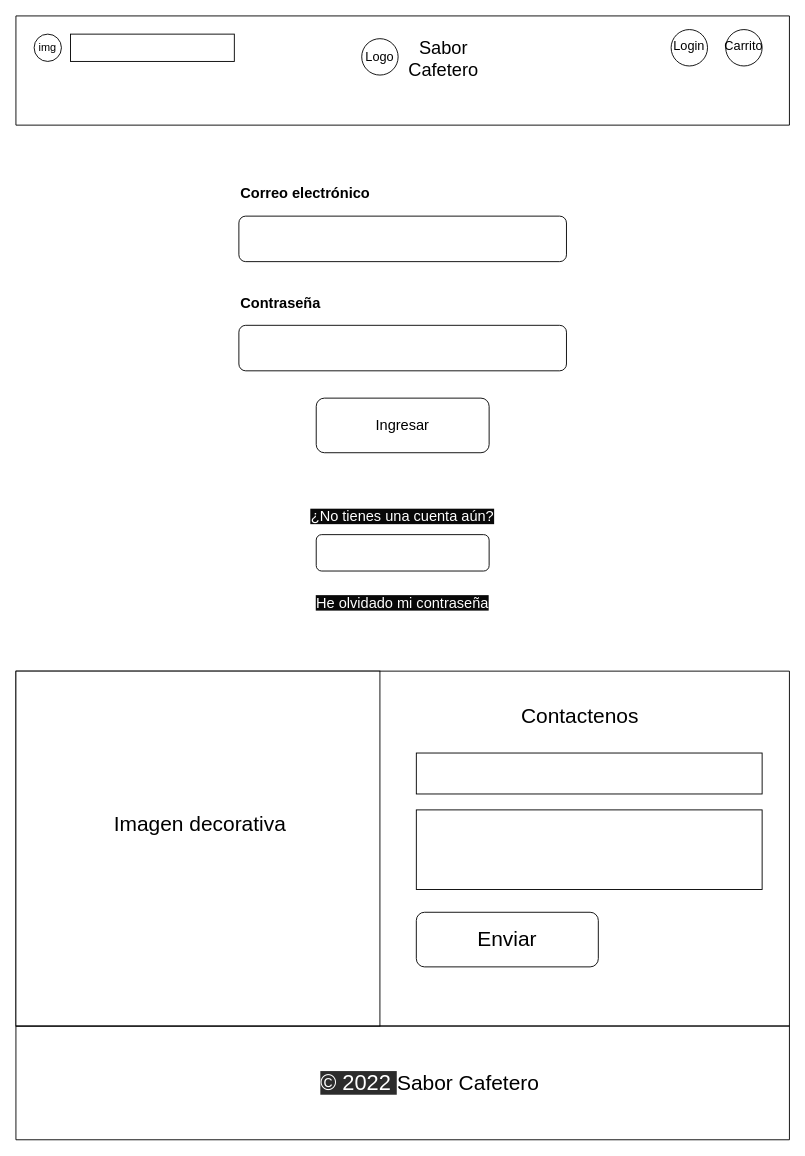
Image size: 805x1156. Some labels were removed from this diagram. The shapes that lost their labels are listed below. From the top down, each one's centre as x and y in pixels, then its label:
At (152,47): "Buscar".
At (402,552): "Crear cuenta".
At (588,773): "Nombre".
At (588,849): "Mensaje".
